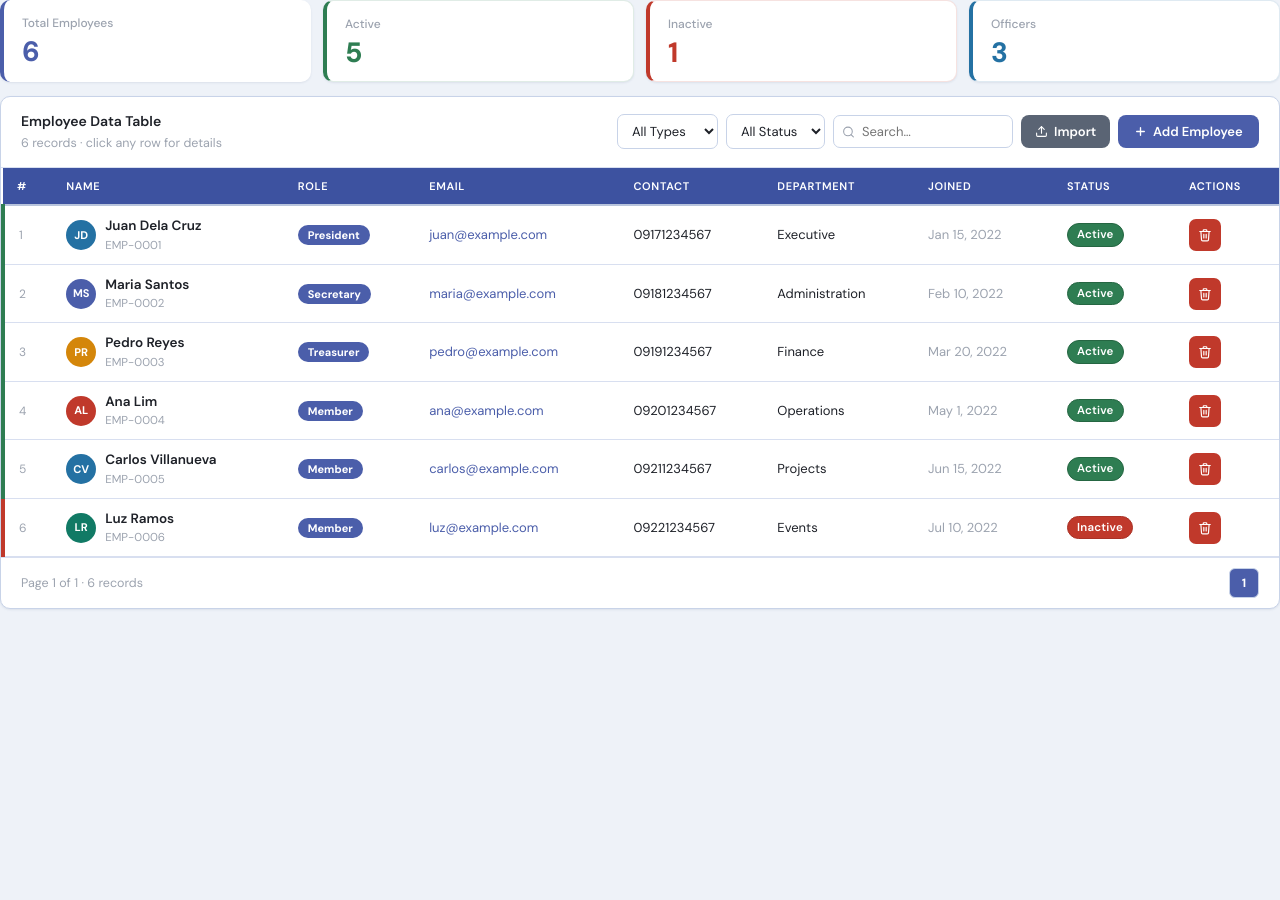
Scenario: edit/save flows › Employees: detail Edit opens the edit modal and Save updates the row
Click the text "Maria Santos". click: (147, 285)
box: [105,275,189,295]
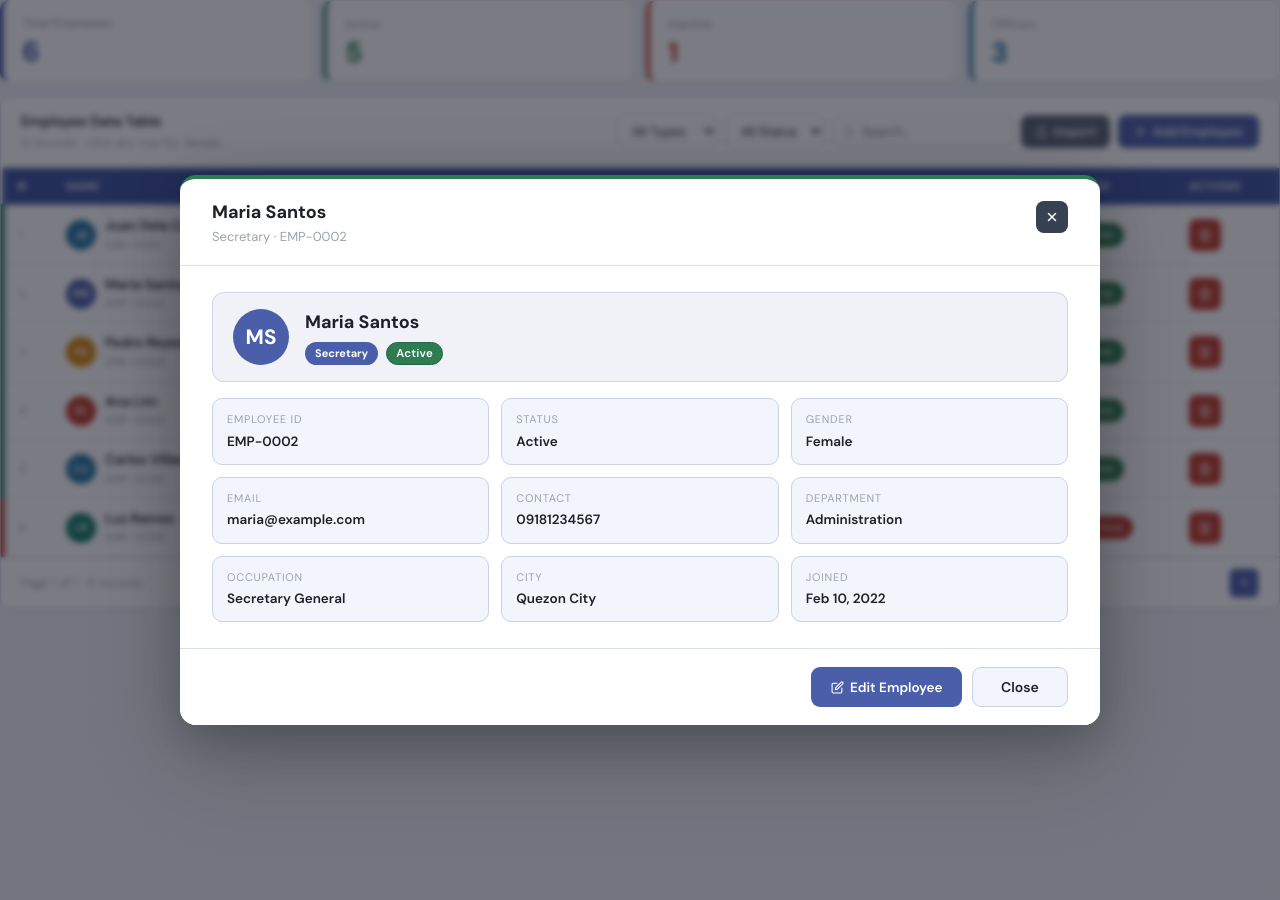
Click the button "Edit Employee". click: (886, 687)
box: [811,667,962,707]
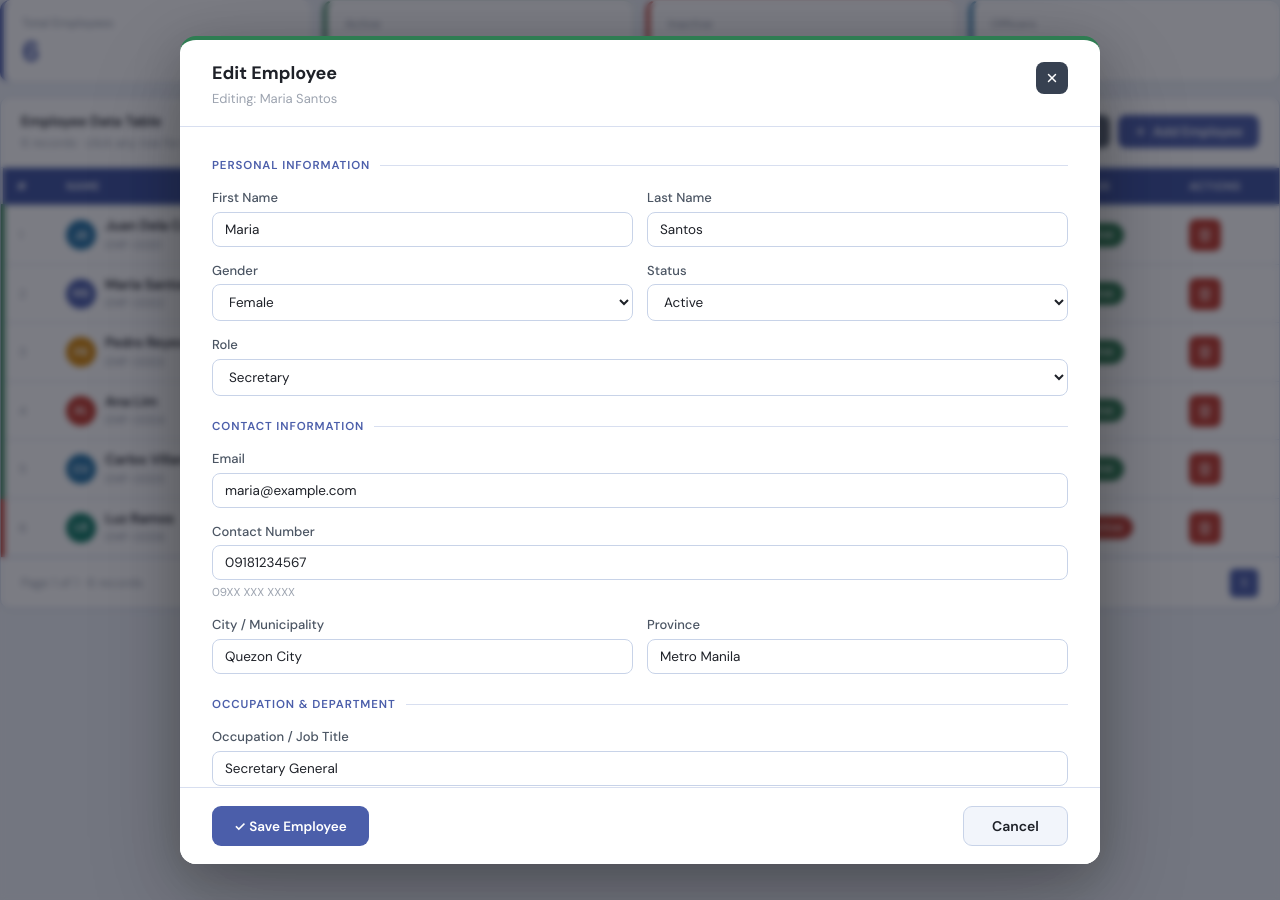
Replace the text in the field below "First Name" with "Mariana". click: (422, 229)
box: [212,212,633,247]
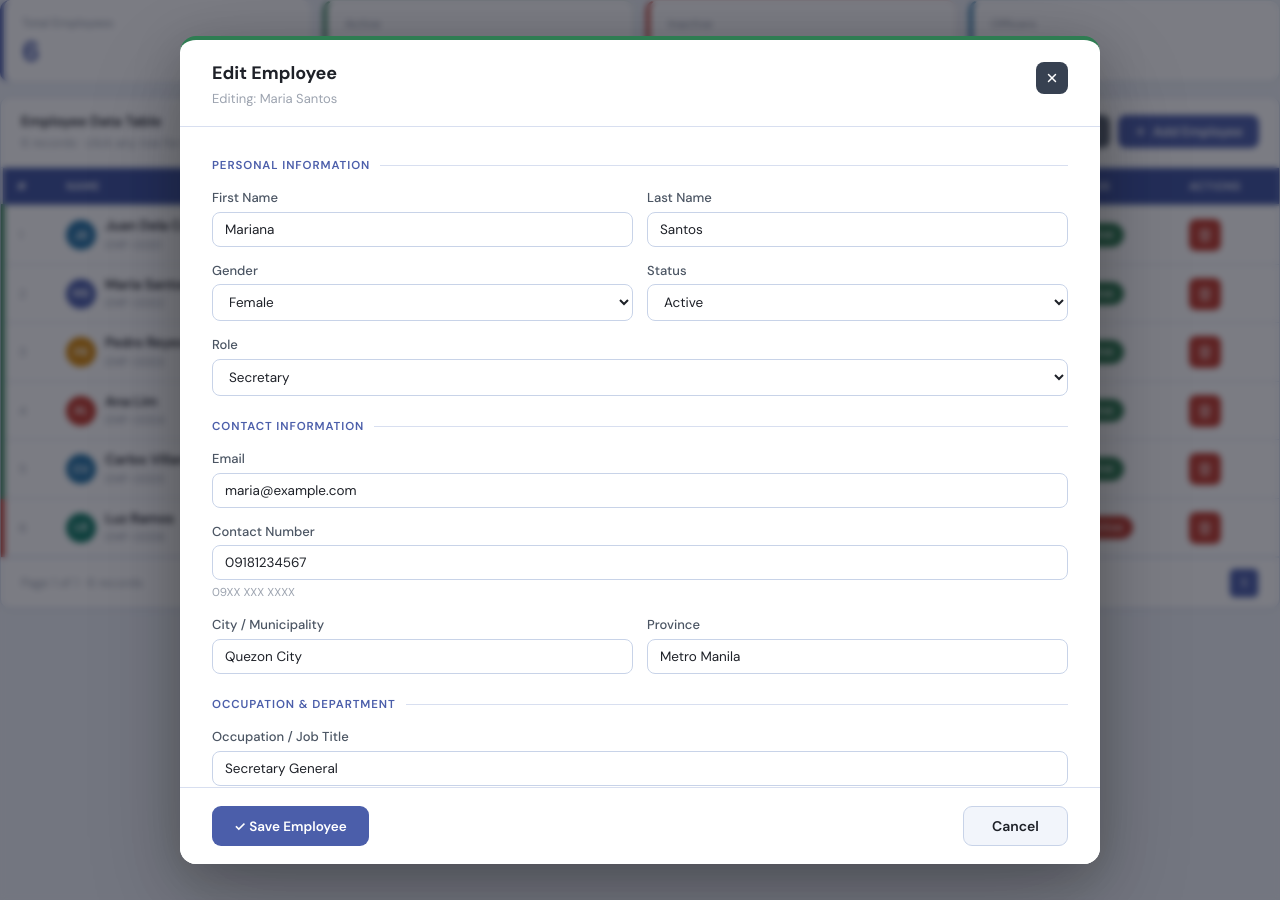
Click the button "✓ Save Employee". click: (290, 826)
box: [212,806,369,846]
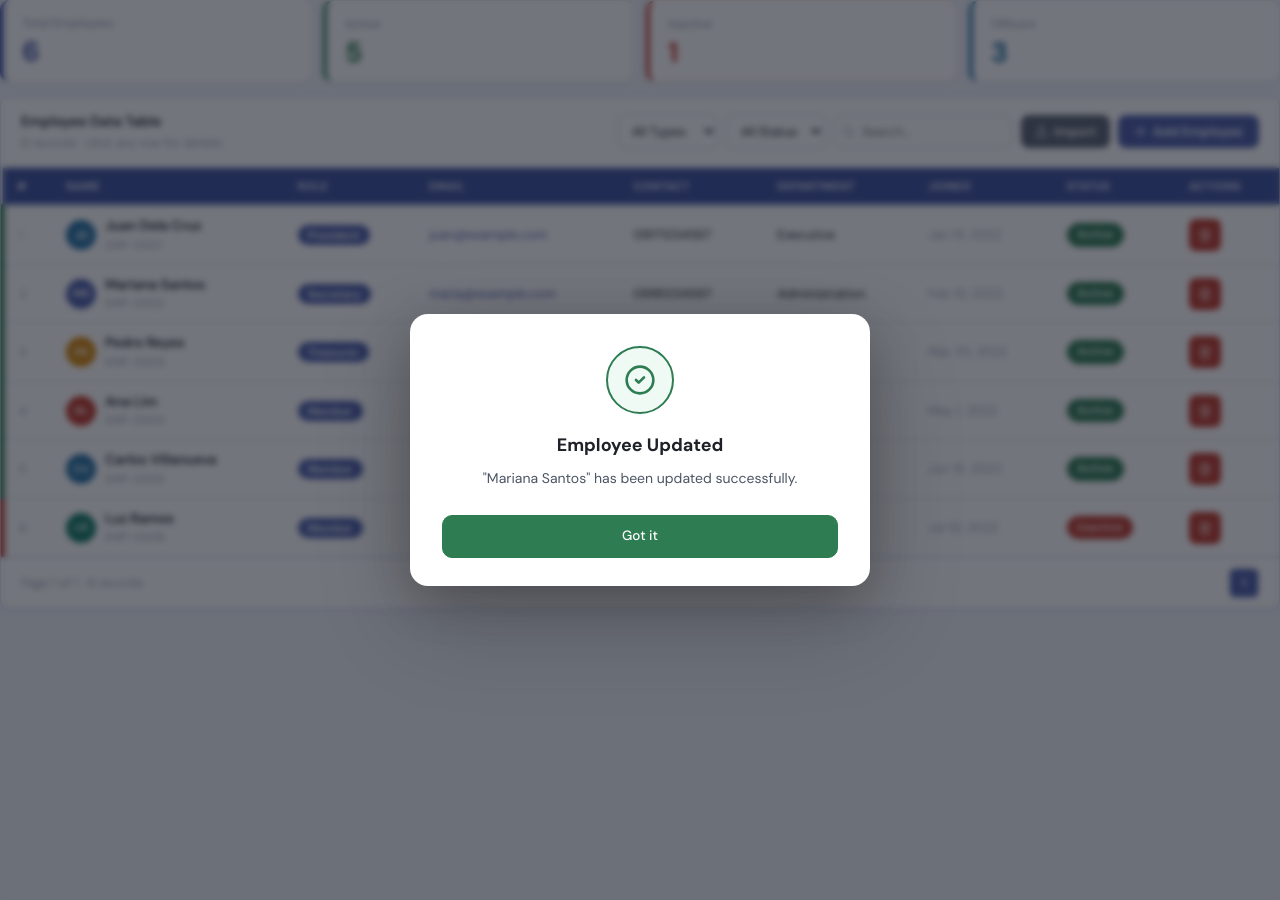
Result: the text "Mariana Santos" is shown at [105,275,205,295]
Result: the text "has been updated successfully" is shown at [483,469,797,487]
